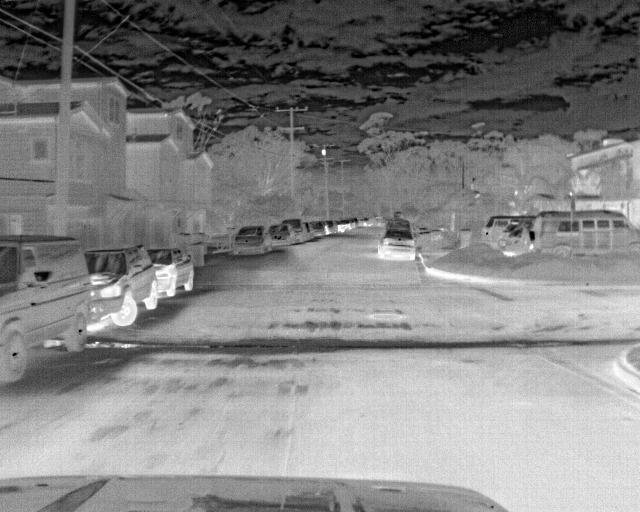car: (1, 230, 95, 387), (82, 245, 157, 331), (532, 209, 639, 256), (150, 249, 193, 304), (376, 227, 419, 263), (232, 224, 272, 259), (500, 220, 533, 258), (479, 216, 513, 246), (498, 218, 527, 249), (284, 217, 307, 246), (268, 225, 294, 248), (310, 222, 327, 238), (322, 221, 337, 235), (336, 219, 350, 232)
